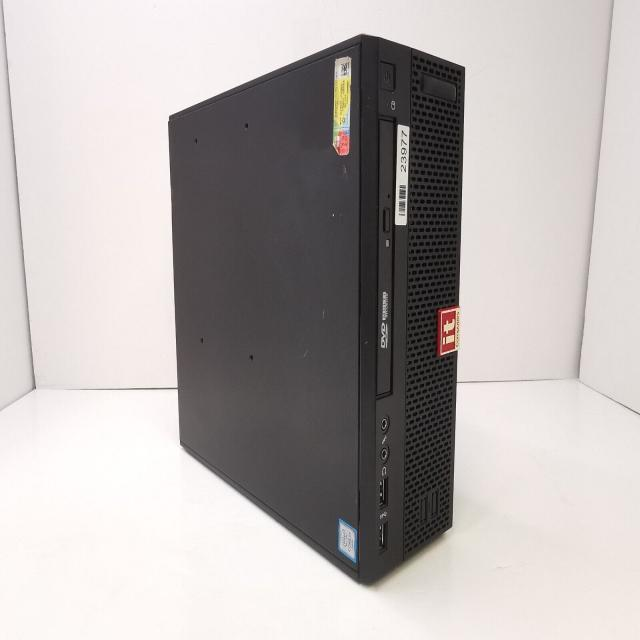Desktop-PC: (160, 22, 522, 590)
